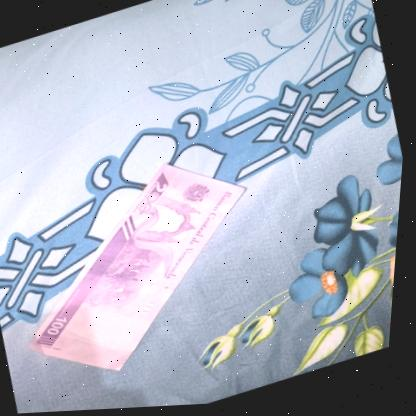vef_back: (0, 138, 289, 399)
